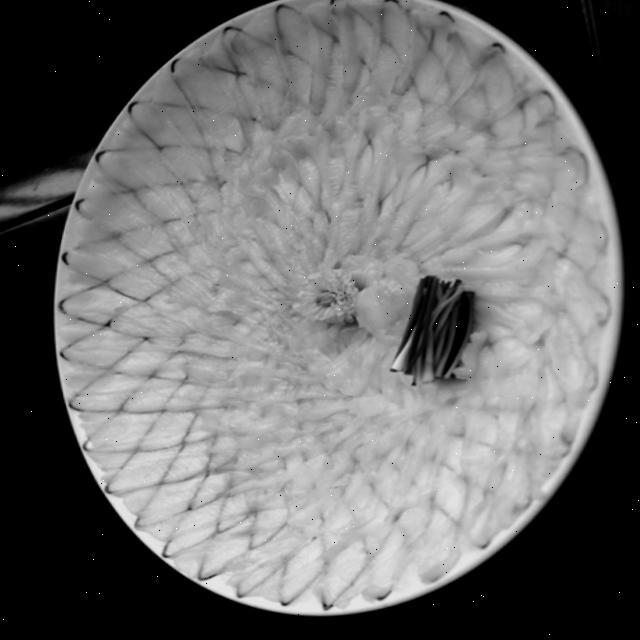刺身生食: (8, 0, 640, 639)
